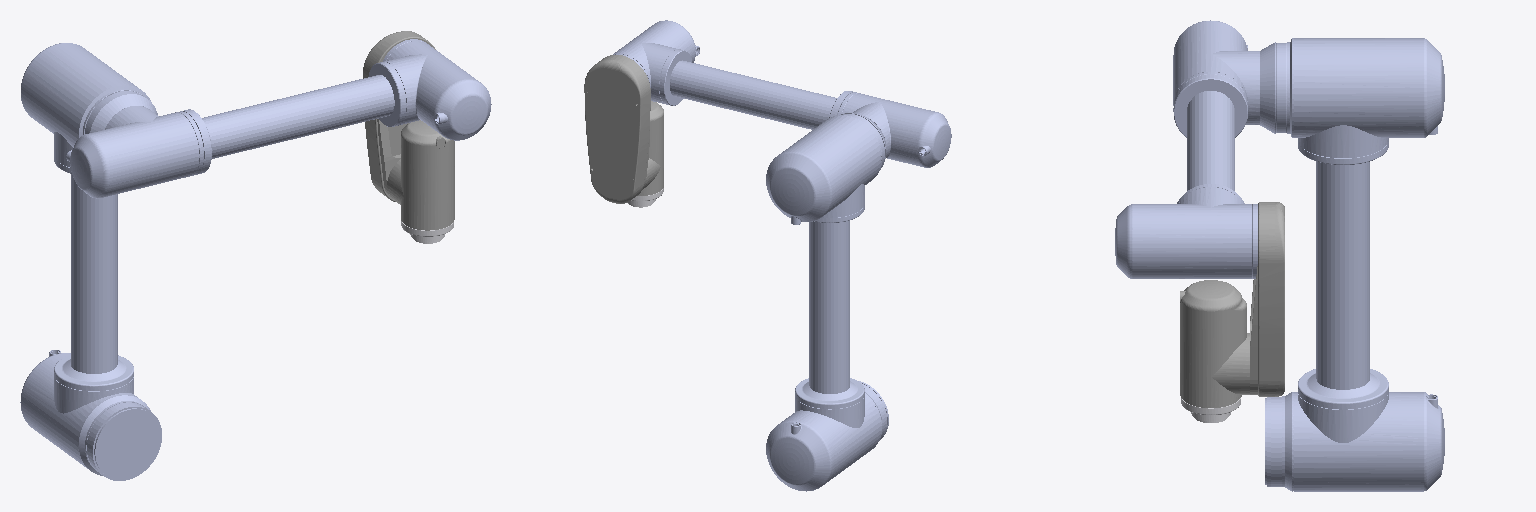
URDF robot description (awtube31814v2):
<?xml version="1.0" ?>
<!-- =================================================================================== -->
<!-- |    This document was autogenerated by xacro from awtube31814v2.urdf.xacro       | -->
<!-- |    EDITING THIS FILE BY HAND IS NOT RECOMMENDED                                 | -->
<!-- =================================================================================== -->
<robot name="awtube31814v2">
  <link name="awtube_base_link">
    <inertial>
      <origin rpy="0 0 0" xyz="3.1408E-18 2.3265E-19 0.011306"/>
      <mass value="1.95"/>
      <inertia ixx="0.0069682" ixy="0" ixz="0" iyy="0.00698365" iyz="0" izz="0.013625"/>
    </inertial>
    <visual>
      <origin rpy="0 0 0" xyz="0 0 0"/>
      <geometry>
        <mesh filename="package://awtube31814v2/meshes/awtube3_baselink.STL"/>
      </geometry>
      <material name="">
        <color rgba="0.79216 0.81961 0.93333 1"/>
      </material>
    </visual>
    <collision>
      <origin rpy="0 0 0" xyz="0 0 0"/>
      <geometry>
        <mesh filename="package://awtube31814v2/meshes/controllo/awtube3_baselink.STL"/>
      </geometry>
    </collision>
  </link>
  <link name="awtube_link1">
    <inertial>
      <origin rpy="0 0 0" xyz="-4E-05 0.00349 0.07595"/>
      <mass value="16.68"/>
      <inertia ixx="0.094951" ixy="2.147E-05" ixz="-2.303E-05" iyy="0.092817" iyz="0.0081897" izz="0.070923"/>
    </inertial>
    <visual>
      <origin rpy="0 0 0" xyz="0 0 0"/>
      <geometry>
        <mesh filename="package://awtube31814v2/meshes/awtube3_link1.STL"/>
      </geometry>
      <material name="">
        <color rgba="0.79216 0.81961 0.93333 1"/>
      </material>
    </visual>
    <collision>
      <origin rpy="0 0 0" xyz="0 0 0"/>
      <geometry>
        <mesh filename="package://awtube31814v2/meshes/controllo/awtube3_link1.STL"/>
      </geometry>
    </collision>
  </link>
  <joint name="awtube_joint1" type="revolute">
    <origin rpy="0 0 0" xyz="0 0 0.025"/>
    <parent link="awtube_base_link"/>
    <child link="awtube_link1"/>
    <axis xyz="0 0 -1"/>
    <limit effort="600" lower="-3.14" upper="3.14" velocity="1.2436"/>
    <dynamics damping="1" friction="0.1"/>
  </joint>
  <link name="awtube_link2">
    <inertial>
      <origin rpy="0 0 0" xyz="3.3616E-13 0.34153 0.12"/>
      <mass value="40.32"/>
      <inertia ixx="4.5836" ixy="0.000709" ixz="0.000204" iyy="0.2329" iyz="0.14739" izz="4.5148"/>
    </inertial>
    <visual>
      <origin rpy="0 0 0" xyz="0 0 0"/>
      <geometry>
        <mesh filename="package://awtube31814v2/meshes/awtube3_link2.STL"/>
      </geometry>
      <material name="">
        <color rgba="0.79216 0.81961 0.93333 1"/>
      </material>
    </visual>
    <collision>
      <origin rpy="0 0 0" xyz="0 0 0"/>
      <geometry>
        <mesh filename="package://awtube31814v2/meshes/controllo/awtube3_link2.STL"/>
      </geometry>
    </collision>
  </link>
  <joint name="awtube_joint2" type="revolute">
    <origin rpy="1.5708 0 3.1416" xyz="0 0.1045 0.092"/>
    <parent link="awtube_link1"/>
    <child link="awtube_link2"/>
    <axis xyz="0 0 -1"/>
    <limit effort="690" lower="-3.14" upper="3.14" velocity="0.86"/>
    <dynamics damping="1" friction="0.1"/>
  </joint>
  <link name="awtube_link3">
    <inertial>
      <origin rpy="0 0 0" xyz="0.00175 -1.8E-05 0.12"/>
      <mass value="11.25"/>
      <inertia ixx="0.058476" ixy="0.0001111" ixz="-0.000703" iyy="0.075816" iyz="5.64E-05" izz="0.048525"/>
    </inertial>
    <visual>
      <origin rpy="0 0 0" xyz="0 0 0"/>
      <geometry>
        <mesh filename="package://awtube31814v2/meshes/awtube3_link3.STL"/>
      </geometry>
      <material name="">
        <color rgba="0.79216 0.81961 0.93333 1"/>
      </material>
    </visual>
    <collision>
      <origin rpy="0 0 0" xyz="0 0 0"/>
      <geometry>
        <mesh filename="package://awtube31814v2/meshes/controllo/awtube3_link3.STL"/>
      </geometry>
    </collision>
  </link>
  <joint name="awtube_joint3" type="revolute">
    <origin rpy="-3.1416 0 -3.1416" xyz="0 0.725 0.0495"/>
    <parent link="awtube_link2"/>
    <child link="awtube_link3"/>
    <axis xyz="0 0 -1"/>
    <limit effort="350" lower="-4.71" upper="1.57" velocity="1.24"/>
    <dynamics damping="1" friction="0.1"/>
  </joint>
  <link name="awtube_link4">
    <inertial>
      <origin rpy="0 0 0" xyz="0.00017 -0.0006 0.52"/>
      <mass value="10.24"/>
      <inertia ixx="0.26862" ixy="-0.00010157" ixz="0.0004927" iyy="0.25451" iyz="0.00037679" izz="0.038222"/>
    </inertial>
    <visual>
      <origin rpy="0 0 0" xyz="0 0 0"/>
      <geometry>
        <mesh filename="package://awtube31814v2/meshes/awtube3_link4.STL"/>
      </geometry>
      <material name="">
        <color rgba="0.79216 0.81961 0.93333 1"/>
      </material>
    </visual>
    <collision>
      <origin rpy="0 0 0" xyz="0 0 0"/>
      <geometry>
        <mesh filename="package://awtube31814v2/meshes/controllo/awtube3_link4.STL"/>
      </geometry>
    </collision>
  </link>
  <joint name="awtube_joint4" type="revolute">
    <origin rpy="-1.5708 0 -1.5708" xyz="0.0924 0 0.154"/>
    <parent link="awtube_link3"/>
    <child link="awtube_link4"/>
    <axis xyz="0 0 -1"/>
    <limit effort="145" lower="-8.0" upper="8.0" velocity="2.71"/>
    <dynamics damping="1" friction="0.1"/>
  </joint>
  <link name="awtube_link5">
    <inertial>
      <origin rpy="0 0 0" xyz="0.216 0.00011 -0.057"/>
      <mass value="5.53"/>
      <inertia ixx="0.021874" ixy="2.249E-05" ixz="-0.013555" iyy="0.051476" iyz="8.85E-06" izz="0.043133"/>
    </inertial>
    <visual>
      <origin rpy="0 0 0" xyz="0 0 0"/>
      <geometry>
        <mesh filename="package://awtube31814v2/meshes/awtube3_link5.STL"/>
      </geometry>
      <material name="">
        <color rgba="0.69804 0.69804 0.69804 1"/>
      </material>
    </visual>
    <collision>
      <origin rpy="0 0 0" xyz="0 0 0"/>
      <geometry>
        <mesh filename="package://awtube31814v2/meshes/controllo/awtube3_link5.STL"/>
      </geometry>
    </collision>
  </link>
  <joint name="awtube_joint5" type="revolute">
    <origin rpy="-1.5708 -1.5708 0" xyz="0 0.0924 0.5827"/>
    <parent link="awtube_link4"/>
    <child link="awtube_link5"/>
    <axis xyz="0 0 -1"/>
    <limit effort="145" lower="-1.6" upper="4.71" velocity="2.71"/>
    <dynamics damping="1" friction="0.1"/>
  </joint>
  <link name="awtube_link6">
    <inertial>
      <origin rpy="0 0 0" xyz="7E-05 8E-05 -0.02571"/>
      <mass value="0.41"/>
      <inertia ixx="0.00032966" ixy="-4.2E-07" ixz="-2.8E-07" iyy="0.00032977" iyz="5.4E-07" izz="0.00054114"/>
    </inertial>
    <visual>
      <origin rpy="0 0 0" xyz="0 0 0"/>
      <geometry>
        <mesh filename="package://awtube31814v2/meshes/awtube3_link6.STL"/>
      </geometry>
      <material name="">
        <color rgba="0.8902 0.8902 0.91373 1"/>
      </material>
    </visual>
    <collision>
      <origin rpy="0 0 0" xyz="0 0 0"/>
      <geometry>
        <mesh filename="package://awtube31814v2/meshes/controllo/awtube3_link6.STL"/>
      </geometry>
    </collision>
  </link>
  <joint name="awtube_joint6" type="revolute">
    <origin rpy="1.5708 0 3.1416" xyz="0 0.358 -0.0919"/>
    <parent link="awtube_link5"/>
    <child link="awtube_link6"/>
    <axis xyz="0 0 -1"/>
    <limit effort="85" lower="-8.0" upper="8.0" velocity="3.61"/>
    <dynamics damping="1" friction="0.1"/>
  </joint>
</robot>

--- Render facts (derived) ---
Views: 3 orthographic renders of the robot side by side, from view 1: azimuth 30°, elevation 25°; view 2: azimuth 150°, elevation 25°; view 3: azimuth 270°, elevation 25°.
Model awtube31814v2 with 7 links and 6 joints (6 revolute), rooted at awtube_base_link, posed every joint at zero.
Links seen in each view (by area): view 1: awtube_link2, awtube_link4, awtube_link3, awtube_link5, awtube_link6; view 2: awtube_link2, awtube_link5, awtube_link4, awtube_link3; view 3: awtube_link2, awtube_link4, awtube_link5, awtube_link3, awtube_link6.
Link boxes in pixels (x1,y1,x2,y2): awtube_link2: (20, 43, 161, 480); awtube_link4: (183, 39, 491, 174); awtube_link3: (66, 85, 203, 198); awtube_link5: (363, 31, 454, 230); awtube_link6: (401, 221, 453, 243); awtube_link2: (766, 115, 888, 491); awtube_link5: (584, 55, 663, 203); awtube_link4: (613, 20, 852, 129); awtube_link3: (833, 92, 951, 174); awtube_link2: (1265, 38, 1444, 491); awtube_link4: (1115, 74, 1257, 278); awtube_link5: (1180, 202, 1284, 407); awtube_link3: (1173, 20, 1293, 137); awtube_link6: (1181, 398, 1240, 422).
Size in the robot's own frame: 0.9336 by 0.6138 by 0.91 metres.
5 mesh visuals loaded from 7 distinct referenced files (5 binary STL); not drawn: 2 (reference not matched to a file when rendering).
